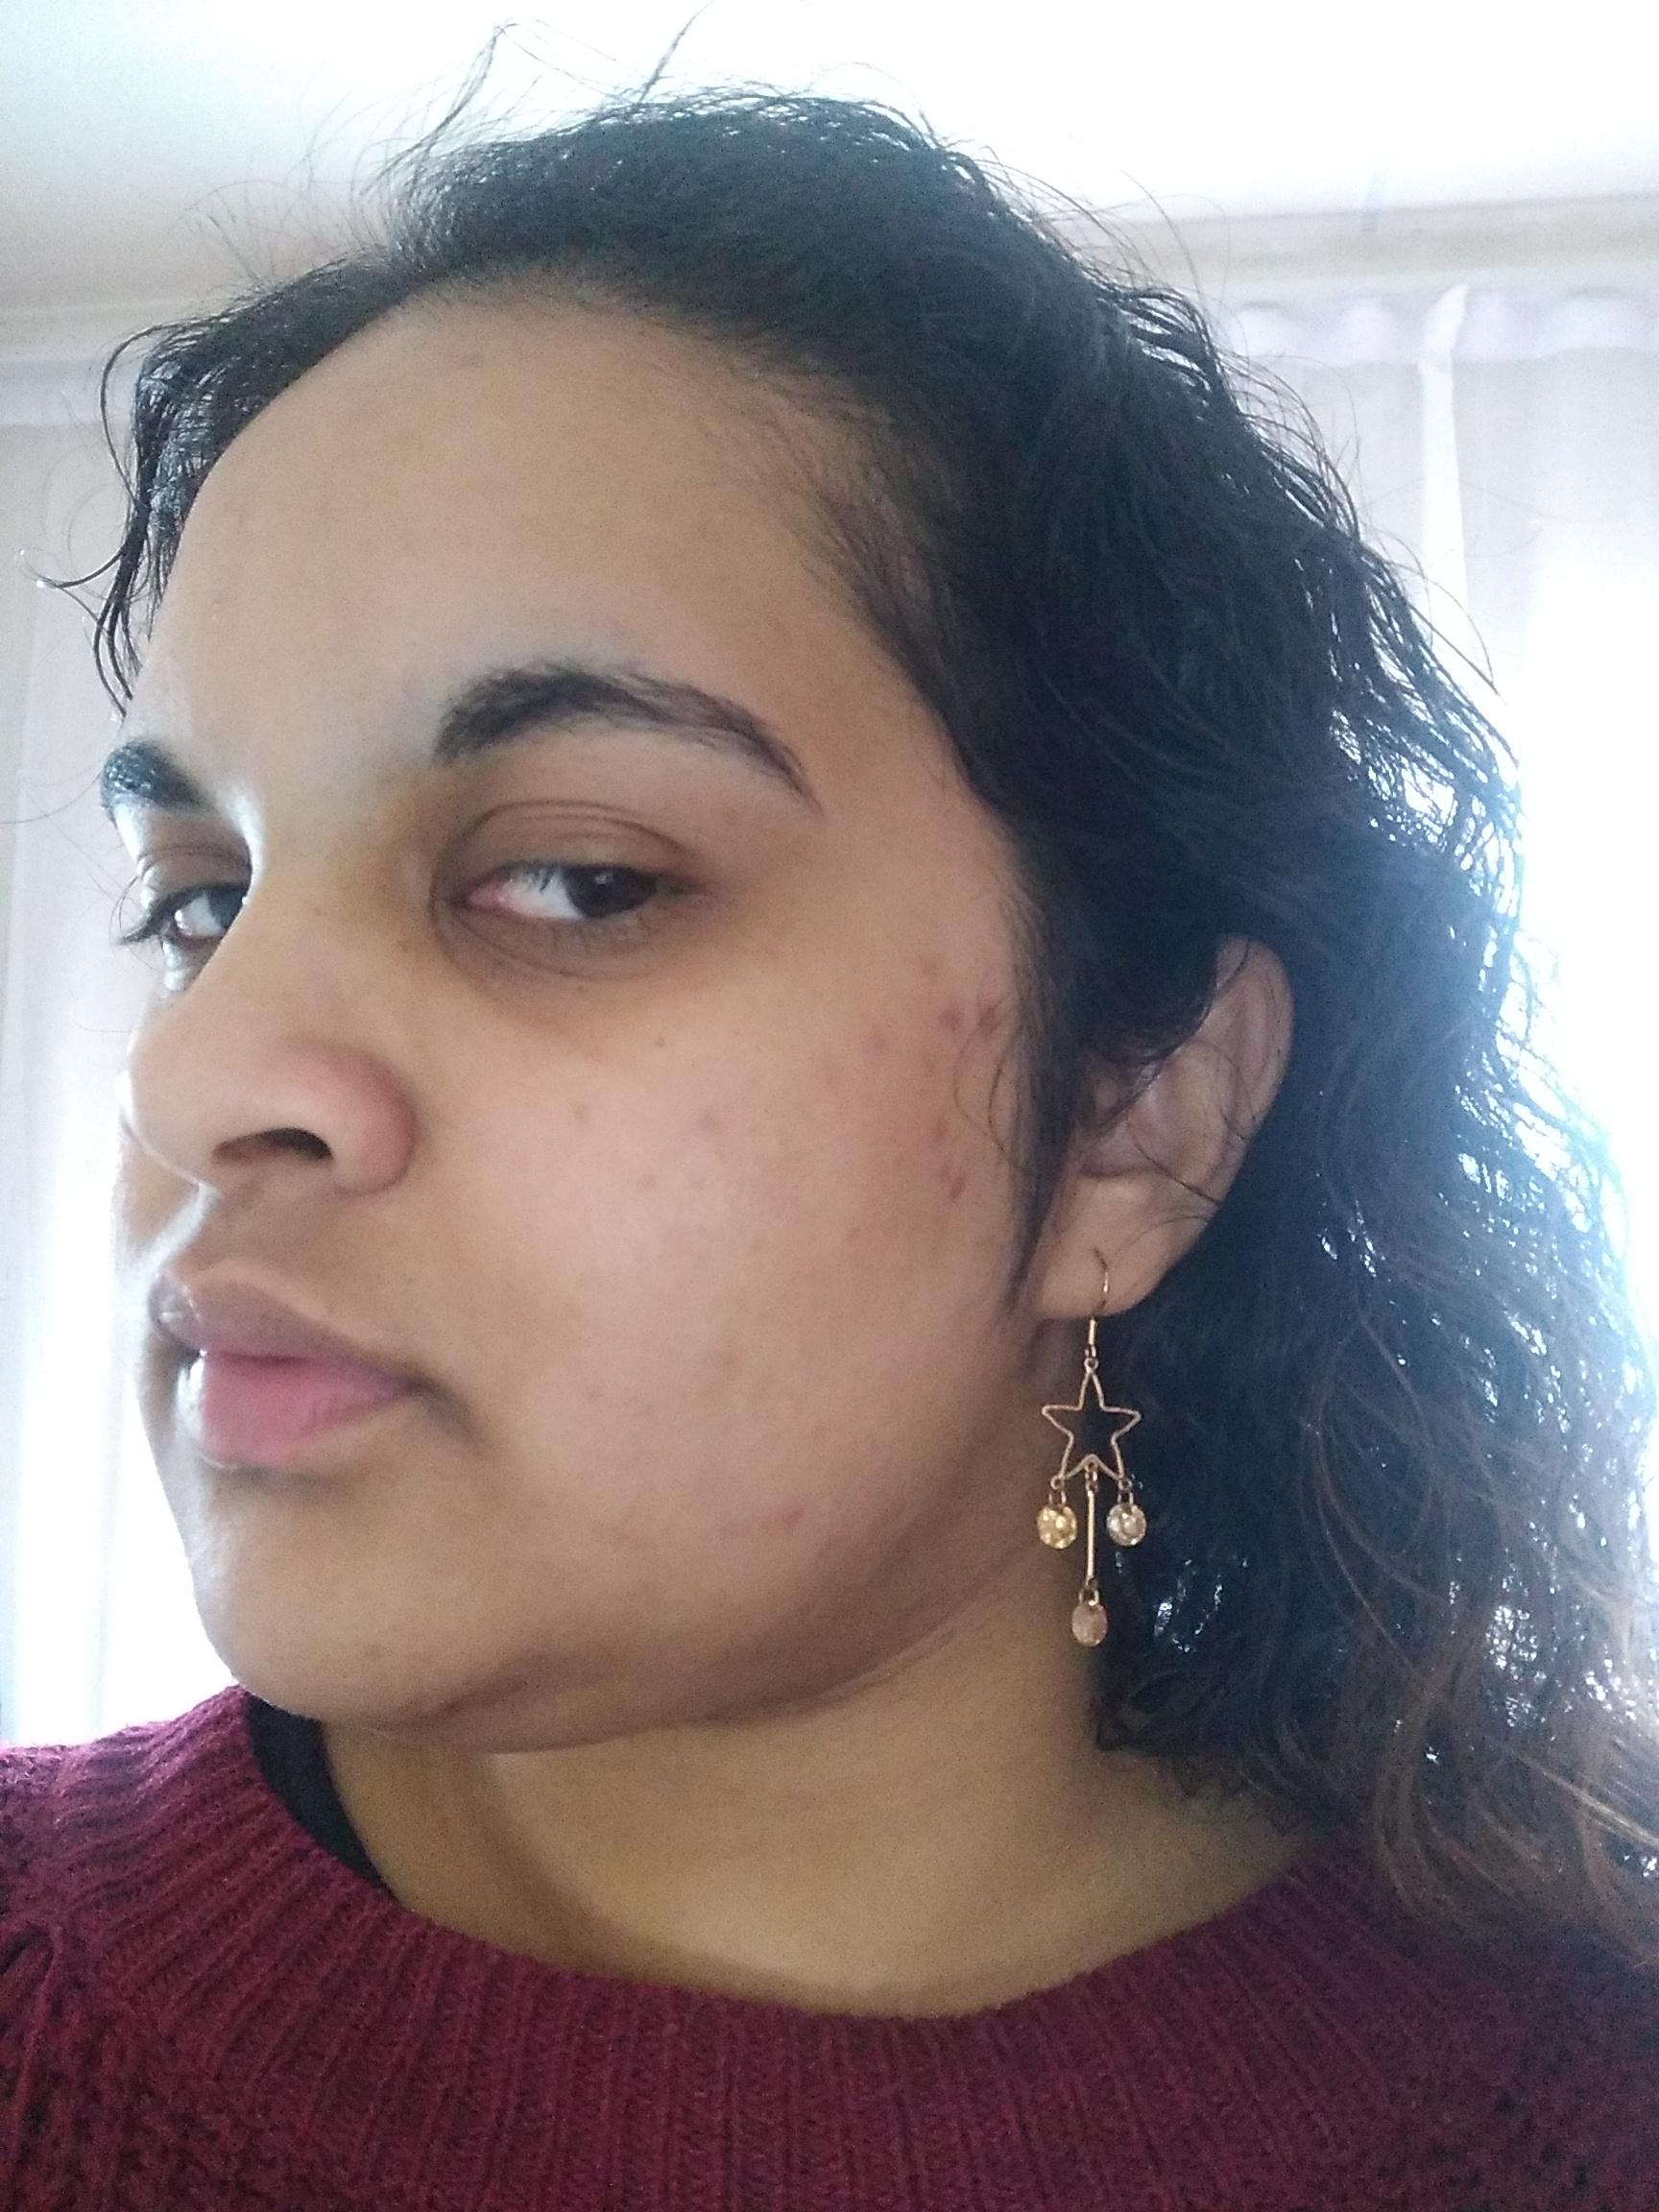Acne: (697, 1341, 758, 1411), (931, 1109, 967, 1217), (762, 1496, 828, 1541), (857, 1008, 896, 1080), (870, 1503, 927, 1541), (840, 1211, 880, 1259), (355, 1625, 403, 1663), (903, 942, 946, 979), (559, 1096, 592, 1134), (584, 1360, 603, 1423), (939, 1000, 960, 1054), (704, 1101, 730, 1134), (983, 1008, 1002, 1040)
Eyebags: (420, 894, 732, 1024)
